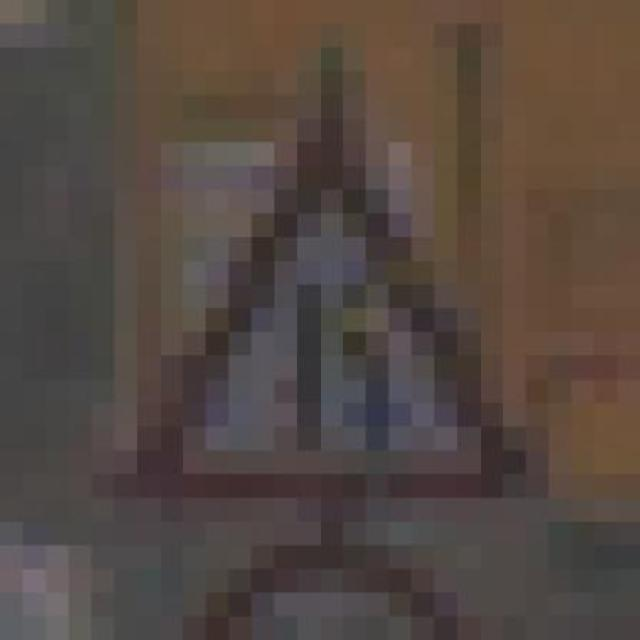-Road narrows on right: (91, 95, 548, 522)
